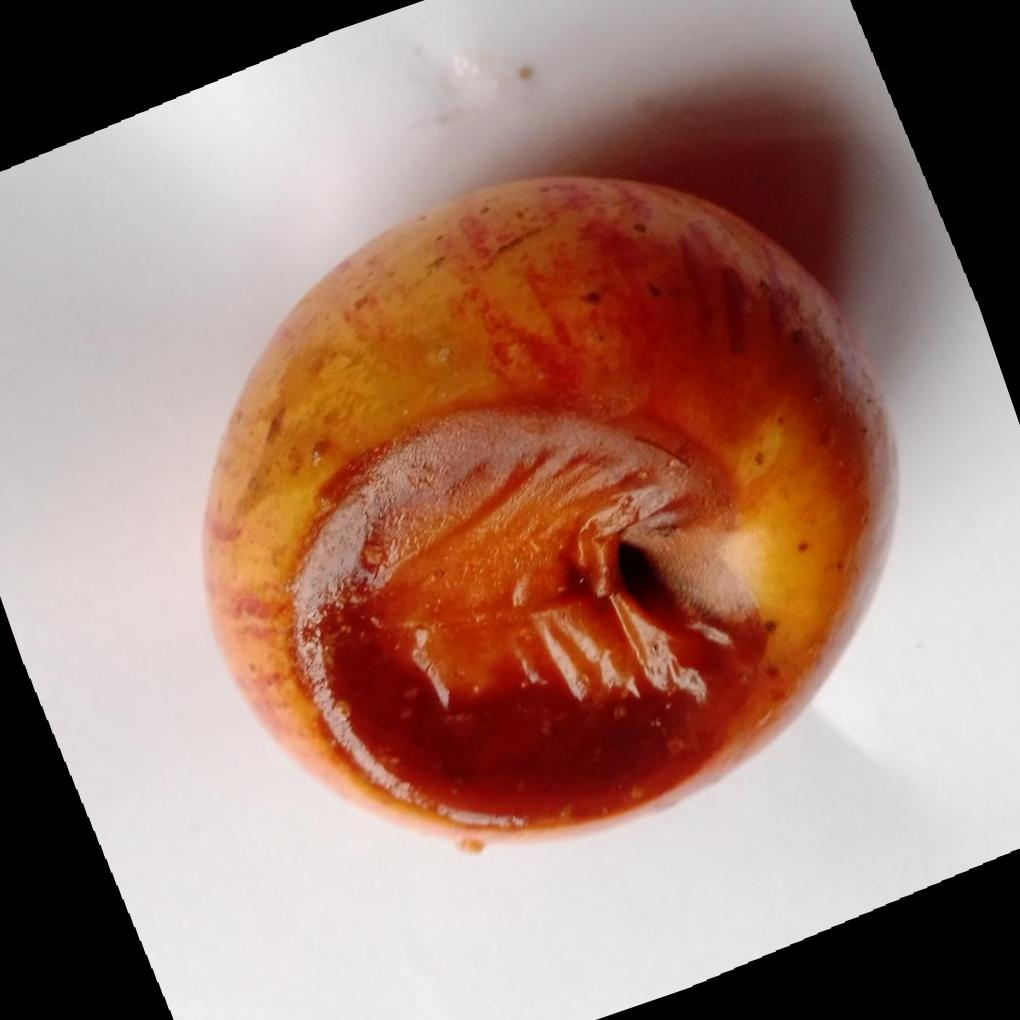FreshOrange: (203, 177, 901, 851)
